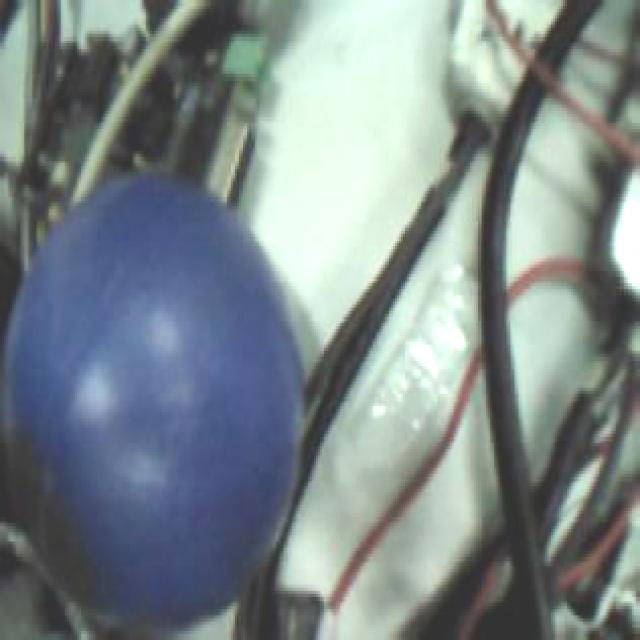BallPurple: (8, 177, 306, 620)
